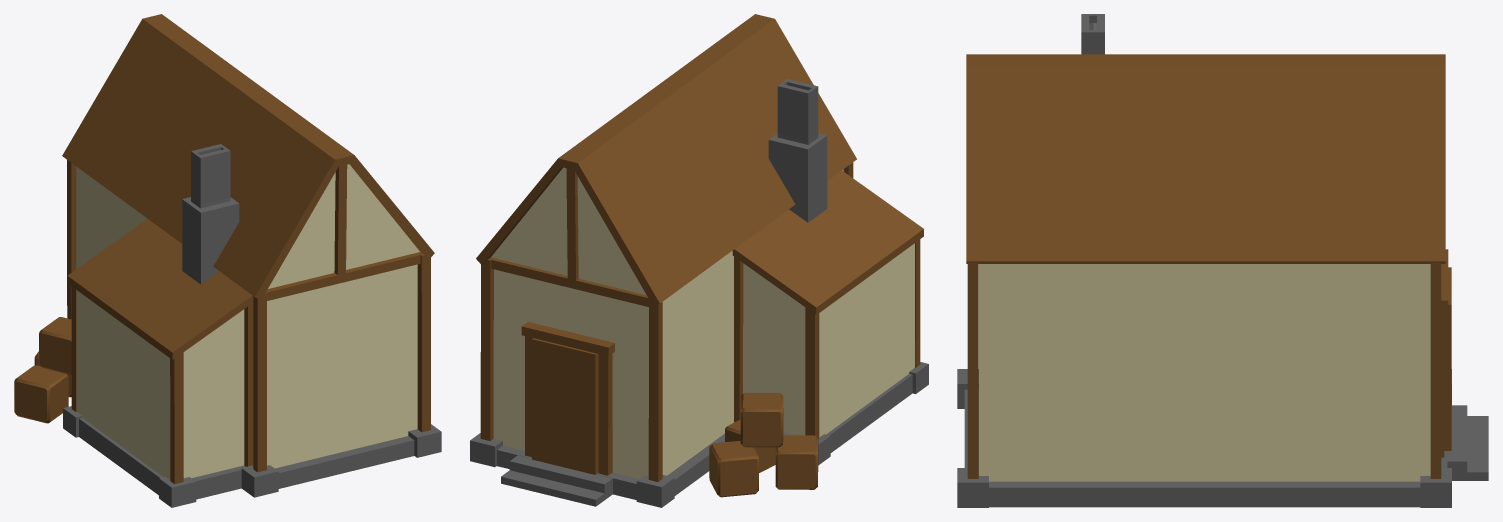
Rendered from house Colored.fbx.
The picture shows the model from 3 angles, left to right: view 1: azimuth 30°, elevation 25°; view 2: azimuth 150°, elevation 25°; view 3: azimuth 270°, elevation 25°; orthographic projection. The views are drawn at different scales.
Parts seen in each view (by area): view 1: Cube, Cube.009, Cube.010, Cube.013, Cube.018, Cube.005, Cube.021, Cube.014, Cube.015, Cube.022, Cube.016, Cube.017; view 2: Cube, Cube.009, Cube.010, Cube.001, Cube.005, Cube.017, Cube.002, Cube.011, Cube.020, Cube.007, Cube.022, Cube.021 (+5 smaller); view 3: Cube, Cube.009, Cube.002, Cube.014, Cube.007, Cube.013, Cube.001, Cube.005, Cube.011.
Part boxes in pixels (<box>): Cube: <box>76,164,419,499</box>; Cube.009: <box>62,14,434,300</box>; Cube.010: <box>67,218,253,359</box>; Cube.013: <box>241,293,441,497</box>; Cube.018: <box>170,303,253,484</box>; Cube.005: <box>63,160,196,507</box>; Cube.021: <box>14,365,68,423</box>; Cube.014: <box>417,254,430,432</box>; Cube.015: <box>265,252,423,300</box>; Cube.022: <box>39,317,71,374</box>; Cube.016: <box>334,164,347,274</box>; Cube.017: <box>71,286,76,411</box>; Cube: <box>491,167,914,499</box>; Cube.009: <box>476,14,856,306</box>; Cube.010: <box>732,170,923,314</box>; Cube.001: <box>532,338,598,474</box>; Cube.005: <box>470,299,928,507</box>; Cube.017: <box>734,257,819,438</box>; Cube.002: <box>501,455,612,506</box>; Cube.011: <box>525,336,612,475</box>; Cube.020: <box>709,440,758,497</box>; Cube.007: <box>480,259,493,440</box>; Cube.022: <box>740,392,783,447</box>; Cube.021: <box>775,435,818,489</box>; Cube: <box>964,264,1447,507</box>; Cube.009: <box>966,14,1445,263</box>; Cube.002: <box>1447,405,1488,480</box>; Cube.014: <box>967,262,978,478</box>; Cube.007: <box>1430,262,1441,478</box>; Cube.013: <box>957,369,988,507</box>; Cube.001: <box>1444,267,1451,450</box>; Cube.005: <box>1420,369,1451,507</box>; Cube.011: <box>1441,311,1444,457</box>.
Size of the model in its own units: 355 by 377 by 463.
